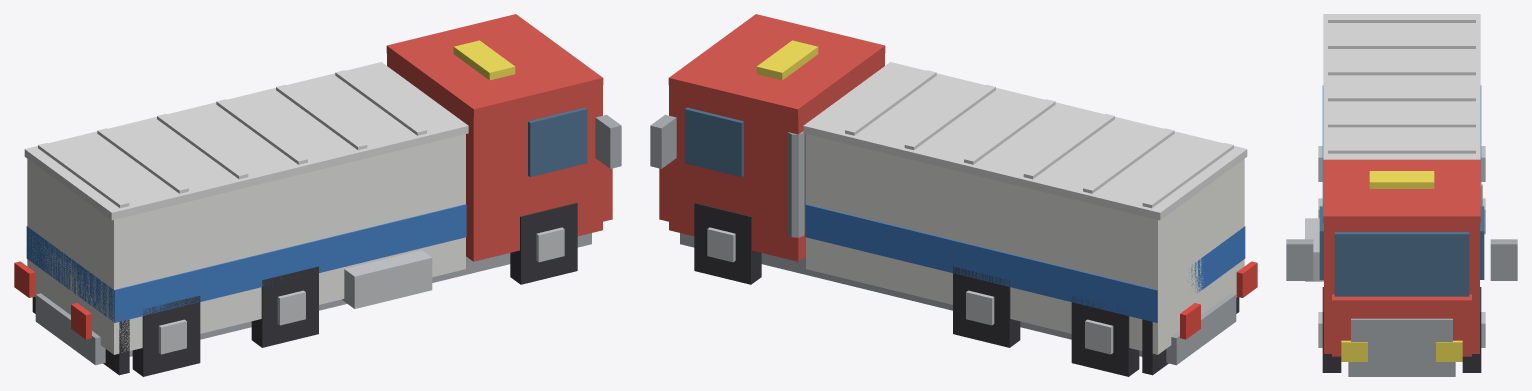
File: truck.glb
3 renders of one model, left to right at view 1: azimuth 30°, elevation 25°; view 2: azimuth 150°, elevation 25°; view 3: azimuth 270°, elevation 25°, orthographic. The views are drawn at different scales.
Parts seen in each view (by area): view 1: truck_trailer, truck_roof, truck_cabin, truck_stripe, truck_cabin_roof, truck_tank, truck_tire_0_0, truck_chassis, truck_tire_2_0, truck_side_glass_-1, truck_tire_1_0, truck_roof_lamp (+14 smaller); view 2: truck_trailer, truck_roof, truck_cabin, truck_stripe, truck_cabin_roof, truck_chassis, truck_tire_0_1, truck_side_glass_1, truck_tire_1_1, truck_tire_2_1, truck_stack, truck_roof_lamp (+14 smaller); view 3: truck_roof, truck_cabin_roof, truck_windshield, truck_hood, truck_cabin, truck_grille, truck_chassis, truck_roof_lamp, truck_rib_2, truck_rib_3, truck_rib_4, truck_rib_5 (+12 smaller).
Boxes of the visible parts, x1,y1,x2,y2 form: truck_trailer: (27,134,465,354); truck_roof: (24,62,468,220); truck_cabin: (387,52,602,261); truck_stripe: (26,204,466,322); truck_cabin_roof: (386,14,603,116); truck_tank: (342,250,432,308); truck_tire_0_0: (510,203,577,284); truck_chassis: (35,233,591,365); truck_tire_2_0: (132,295,200,376); truck_side_glass_-1: (528,107,587,176); truck_tire_1_0: (251,266,318,347); truck_roof_lamp: (453,40,515,80); truck_trailer: (806,134,1244,354); truck_roof: (803,62,1247,220); truck_cabin: (669,52,884,261); truck_stripe: (805,204,1245,322); truck_cabin_roof: (668,14,885,116); truck_chassis: (680,233,1236,365); truck_tire_0_1: (694,203,761,284); truck_side_glass_1: (684,107,743,176); truck_tire_1_1: (953,266,1020,347); truck_tire_2_1: (1071,296,1139,376); truck_stack: (787,131,804,237); truck_roof_lamp: (756,40,818,80); truck_roof: (1323,14,1480,159); truck_cabin_roof: (1323,159,1480,223); truck_windshield: (1334,232,1469,296); truck_hood: (1332,294,1471,356); truck_cabin: (1324,222,1479,353); truck_grille: (1351,318,1452,358); truck_chassis: (1348,359,1455,376); truck_roof_lamp: (1369,171,1434,188); truck_rib_2: (1328,68,1475,75); truck_rib_3: (1328,94,1475,101); truck_rib_4: (1328,120,1475,127); truck_rib_5: (1328,146,1475,153).
Bounding box in the file's own units: 1.02 × 0.3585 × 0.43.
